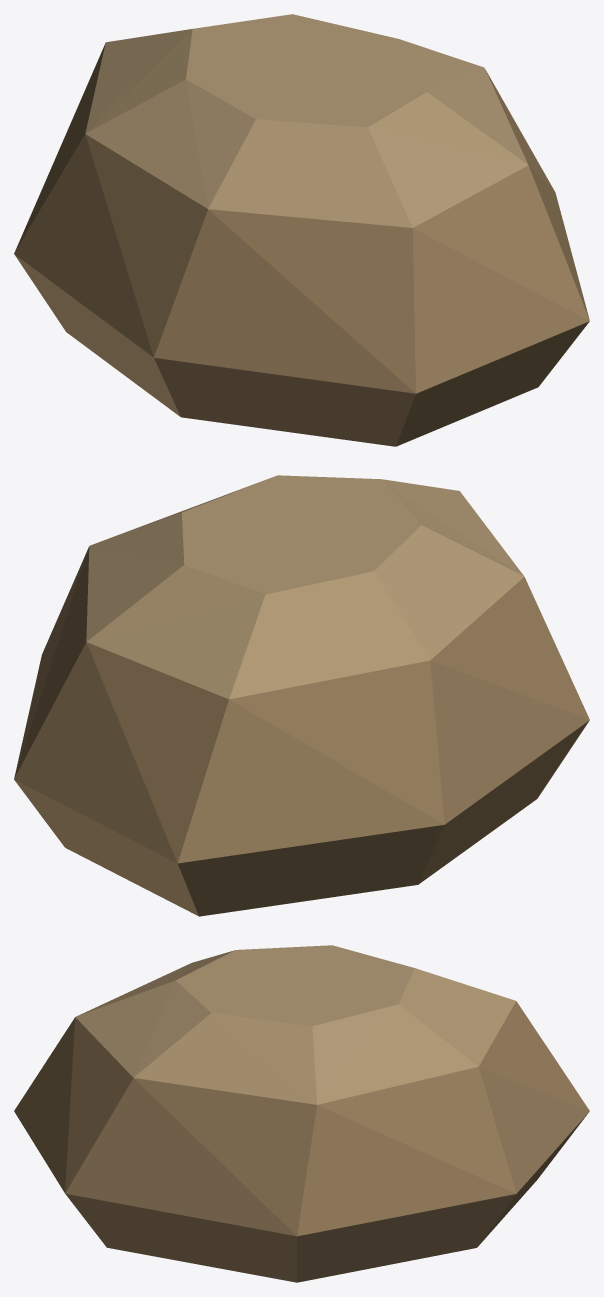
The model's file is sand-rock-small.glb.
3 views of the same model, one above another, from view 1: azimuth 30°, elevation 25°; view 2: azimuth 150°, elevation 25°; view 3: azimuth 270°, elevation 25° (orthographic). The views are drawn at different scales.
Parts seen in each view (by area): view 1: sand-rock-small__body; view 2: sand-rock-small__body; view 3: sand-rock-small__body.
Boxes of the visible parts, box(x1,y1,x2,y2) form: sand-rock-small__body: box(14, 14, 589, 446); sand-rock-small__body: box(14, 475, 589, 916); sand-rock-small__body: box(14, 945, 589, 1282).
Size of the model in its own units: 1.04 by 0.55 by 1.33.
